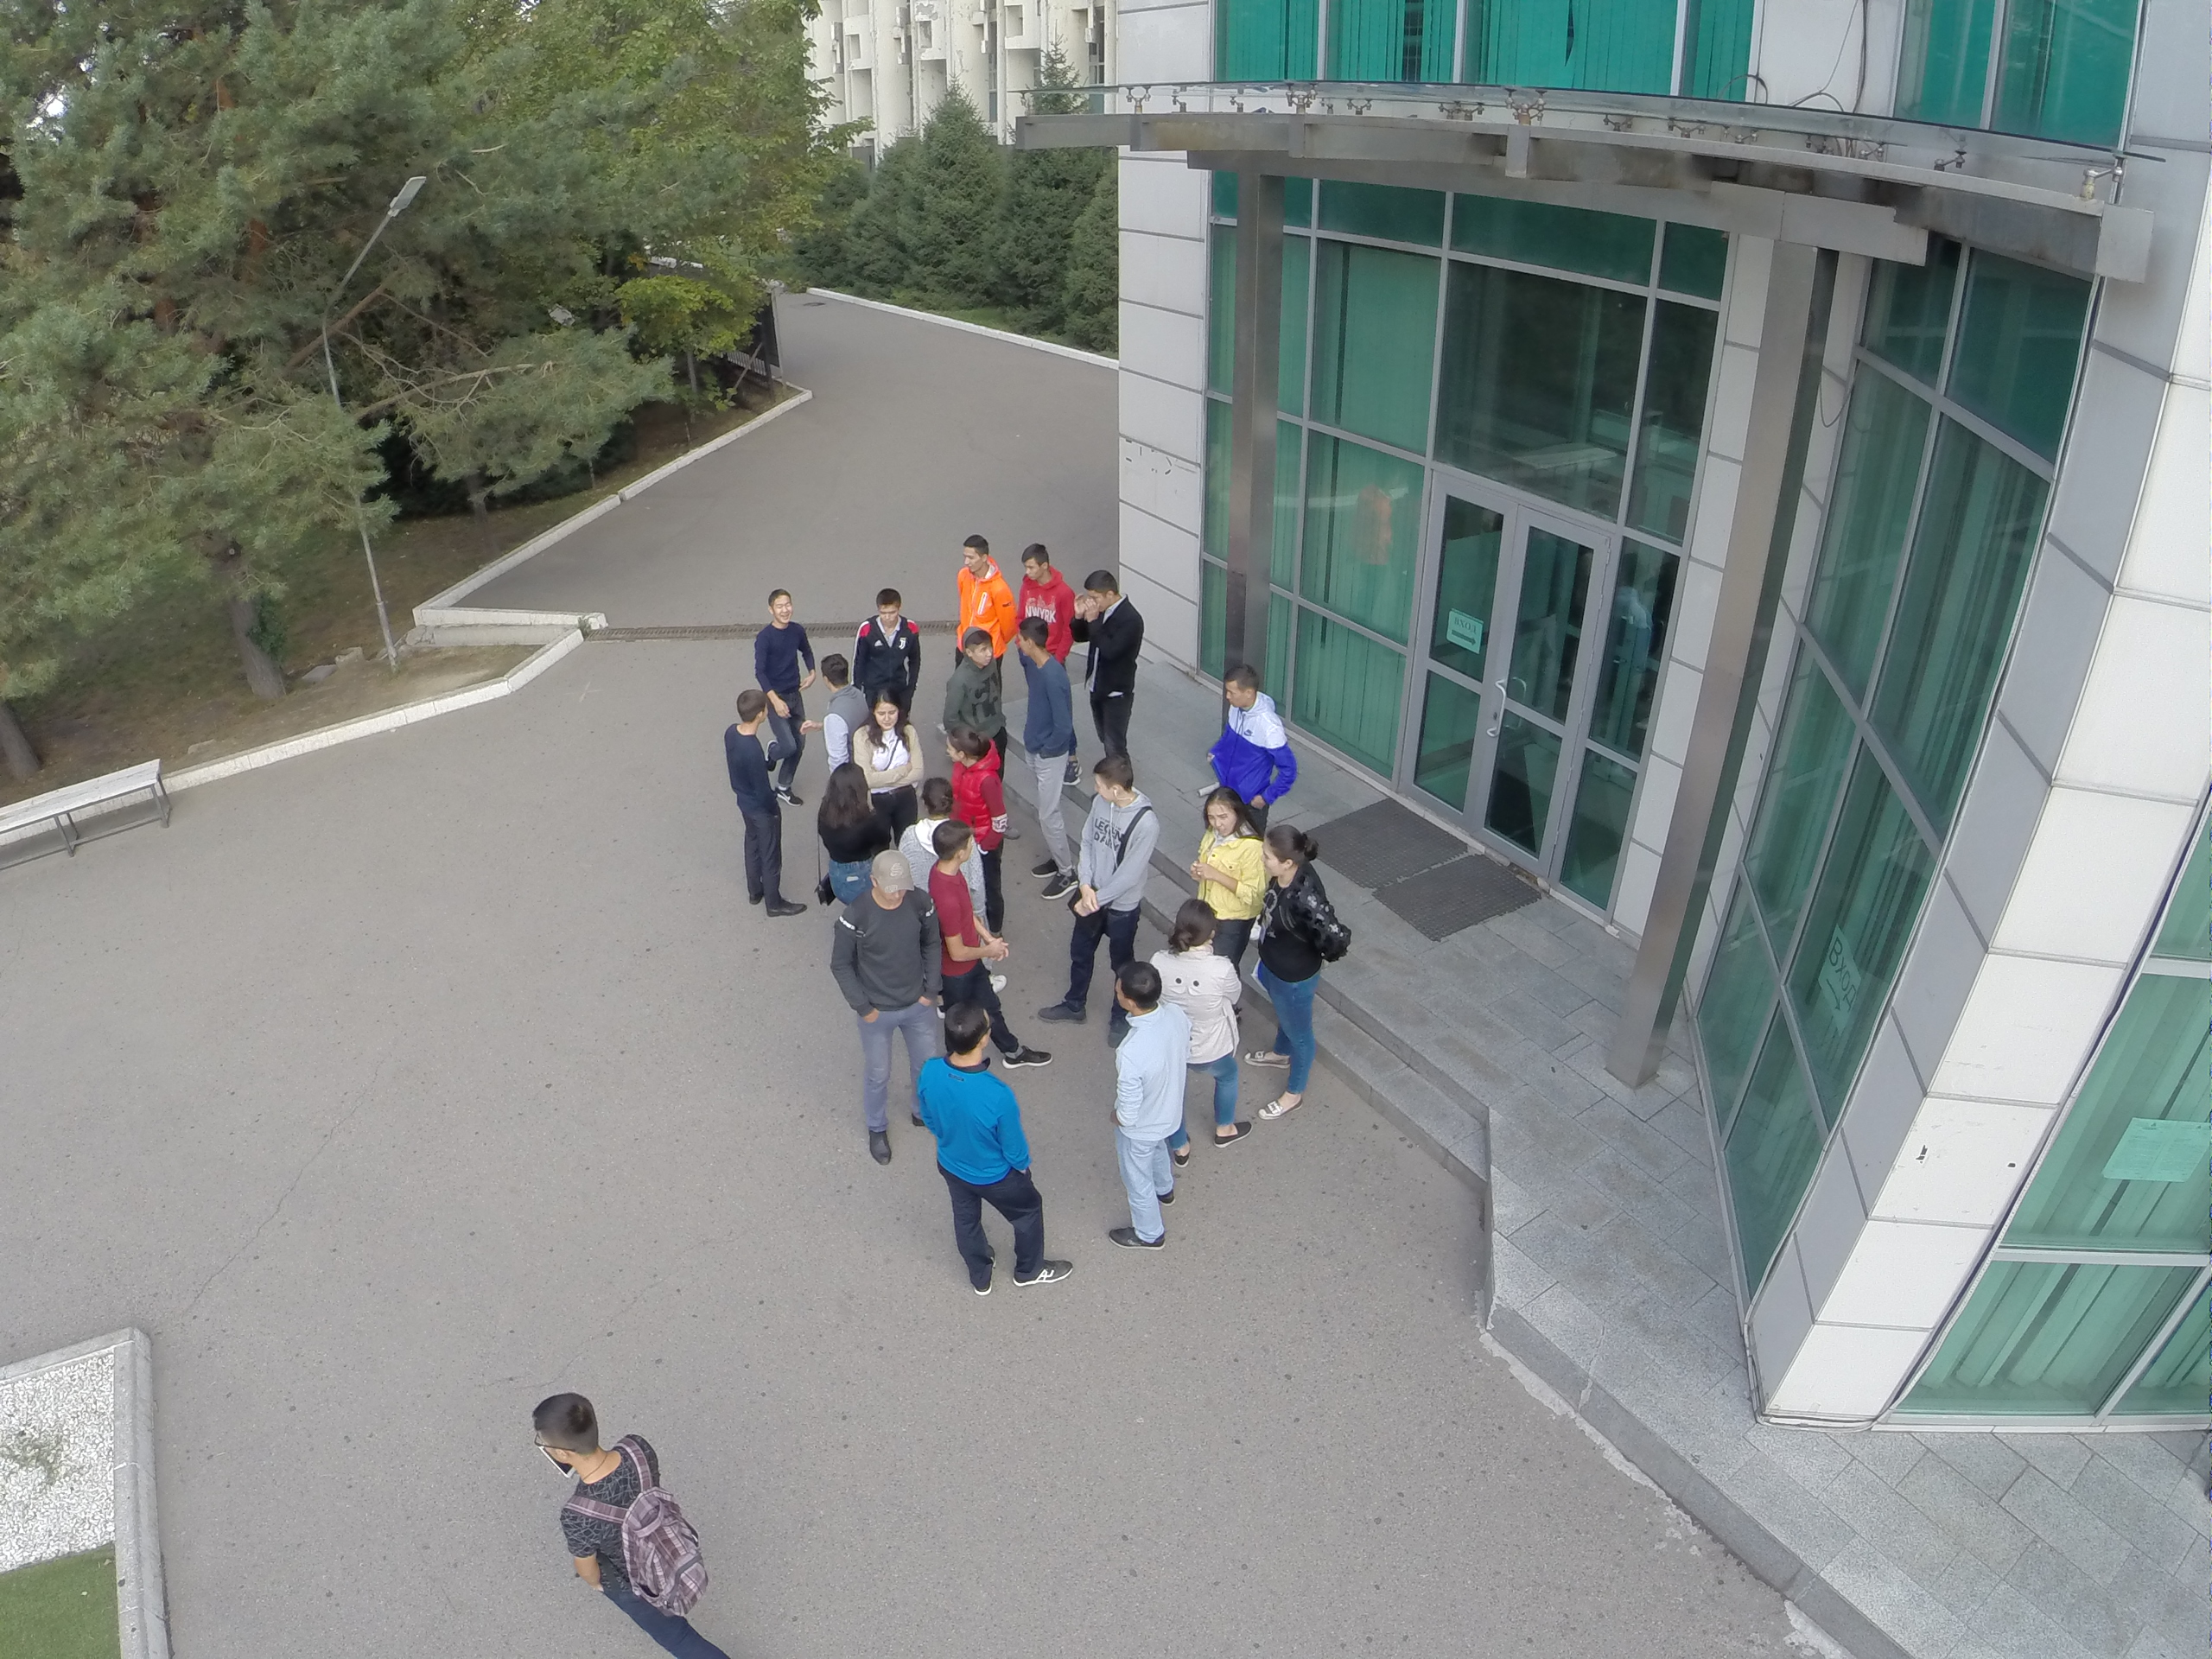person: (512, 1388, 729, 1659), (906, 1001, 1080, 1297), (851, 855, 965, 1164), (1052, 747, 1154, 1036), (938, 836, 1058, 1079), (1142, 895, 1251, 1164), (1249, 825, 1339, 1130), (1093, 956, 1184, 1257), (717, 692, 811, 924), (1014, 617, 1086, 906), (1200, 658, 1306, 805), (753, 585, 813, 805), (1084, 574, 1146, 763), (938, 727, 1011, 855), (948, 630, 1013, 757), (867, 694, 926, 817), (852, 581, 913, 693), (950, 524, 1010, 632), (1195, 794, 1251, 901), (817, 652, 868, 753), (1020, 541, 1071, 616)
